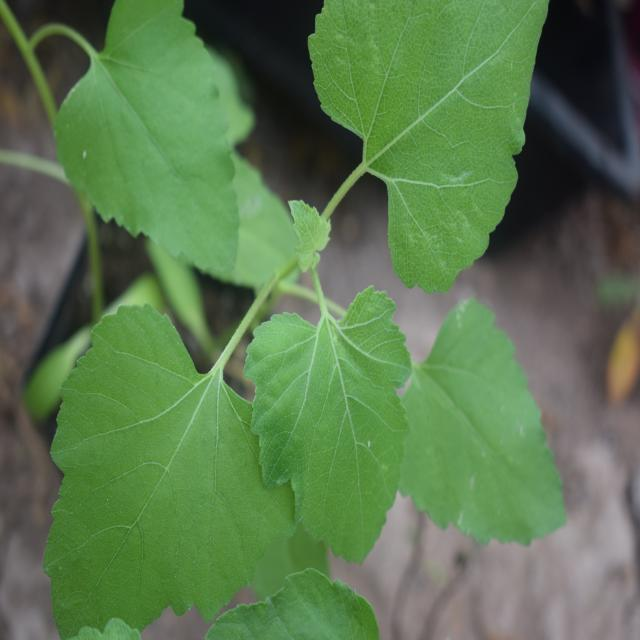cocklebur: (36, 17, 597, 591)
